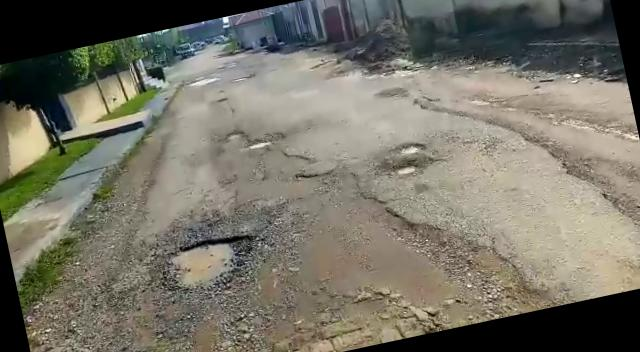pothole: (160, 230, 267, 298), (390, 138, 429, 158), (243, 138, 274, 152), (394, 163, 418, 178), (223, 129, 245, 143)
